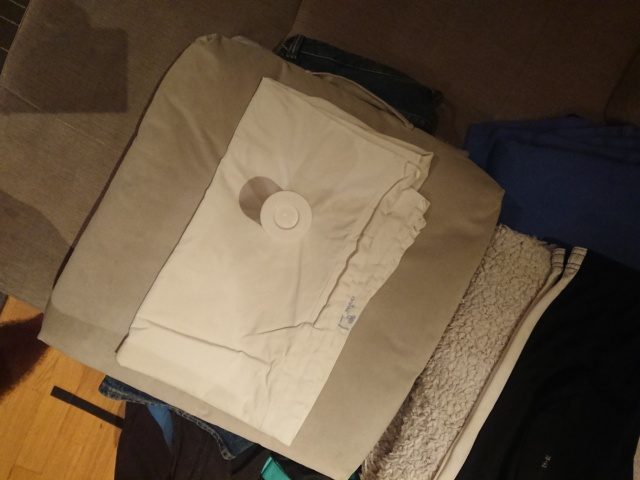Solana Pag Fine Sea Salt 250g: (258, 188, 314, 244)
